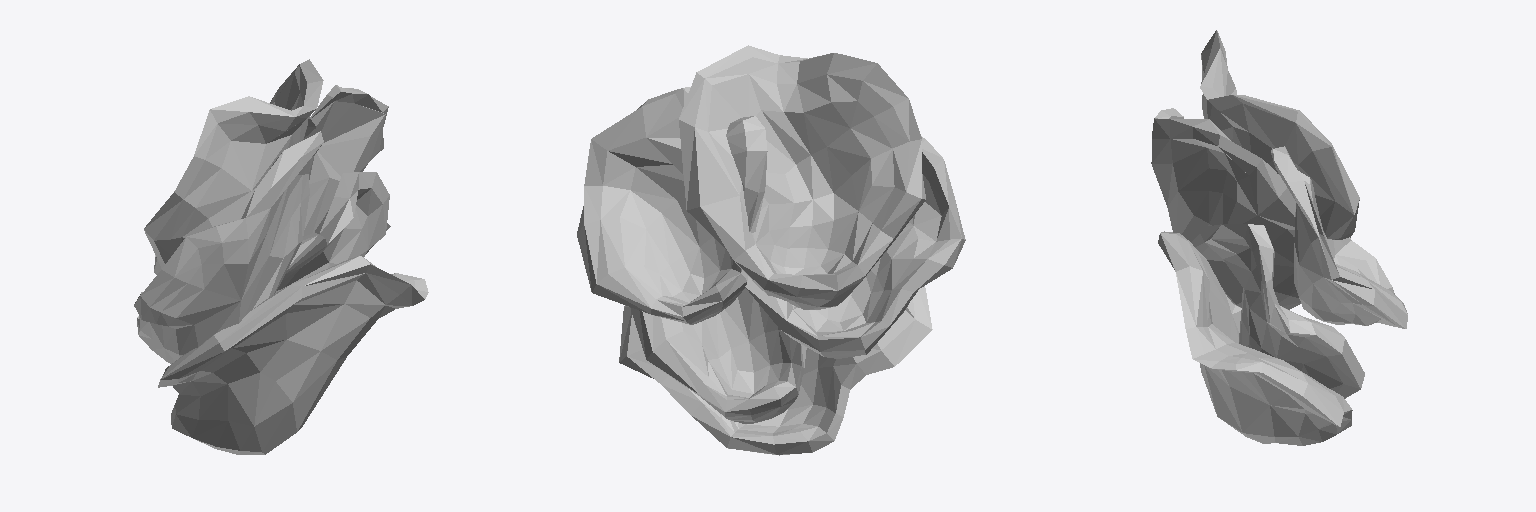
File: PolySphere2_4_low.obj
3 views of the same model, side by side, from view 1: azimuth 30°, elevation 25°; view 2: azimuth 150°, elevation 25°; view 3: azimuth 270°, elevation 25° (orthographic).
Parts seen in each view (by area): view 1: ZBrush_defualt_group; view 2: ZBrush_defualt_group; view 3: ZBrush_defualt_group.
Boxes of the visible parts, <box> form: ZBrush_defualt_group: <box>134,59,428,454</box>; ZBrush_defualt_group: <box>577,45,965,455</box>; ZBrush_defualt_group: <box>1151,30,1407,445</box>.
Size of the model in its own units: 0.0897 by 0.1054 by 0.0644.